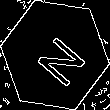N_NW: (25, 24, 85, 86)
